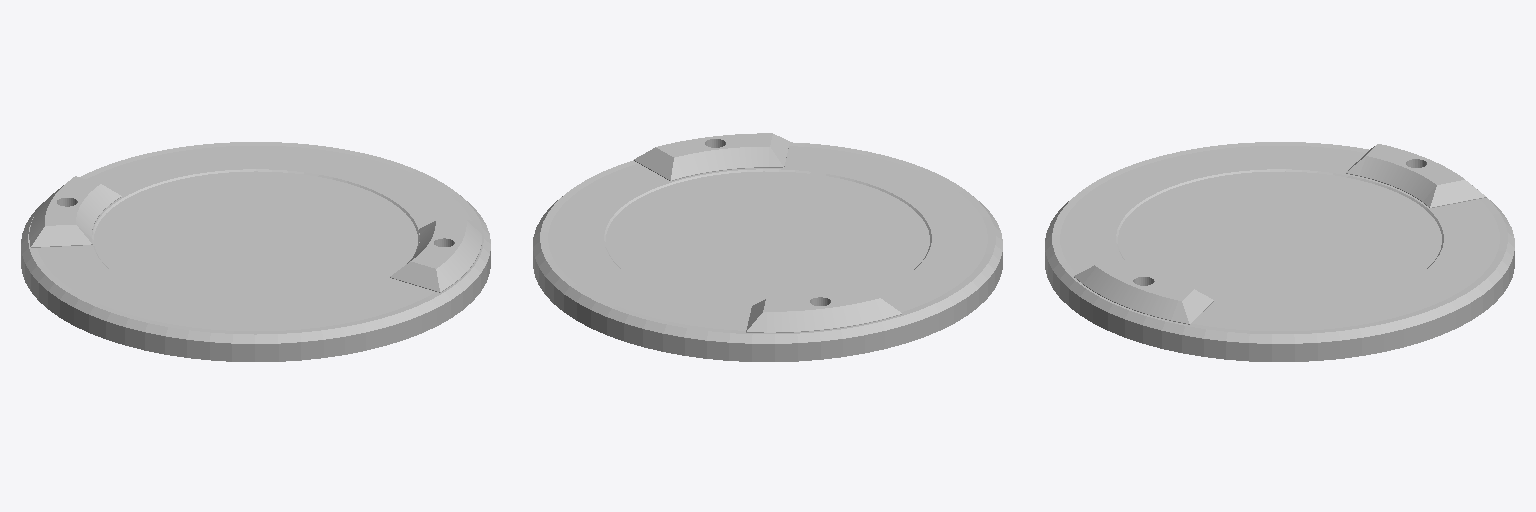
Rendered from plug.obj.
The picture shows the model from 3 angles: view 1: azimuth 30°, elevation 25°; view 2: azimuth 150°, elevation 25°; view 3: azimuth 270°, elevation 25°; orthographic projection.
Parts seen in each view (by area): view 1: Merge_0.1-Null, Boole.1, Boole.2; view 2: Merge_0.1-Null, Boole.1, Boole.2; view 3: Merge_0.1-Null, Boole.1, Boole.2.
Part boxes in pixels (left/top/right/bottom): Merge_0.1-Null: left=21, top=142, right=490, bottom=361; Boole.1: left=390, top=219, right=481, bottom=292; Boole.2: left=29, top=176, right=121, bottom=247; Merge_0.1-Null: left=533, top=142, right=1002, bottom=361; Boole.1: left=634, top=133, right=789, bottom=180; Boole.2: left=746, top=288, right=901, bottom=332; Merge_0.1-Null: left=1045, top=142, right=1514, bottom=361; Boole.1: left=1074, top=260, right=1213, bottom=324; Boole.2: left=1346, top=144, right=1486, bottom=207.
Size of the model in its own units: 18.42 by 2.89 by 18.42.